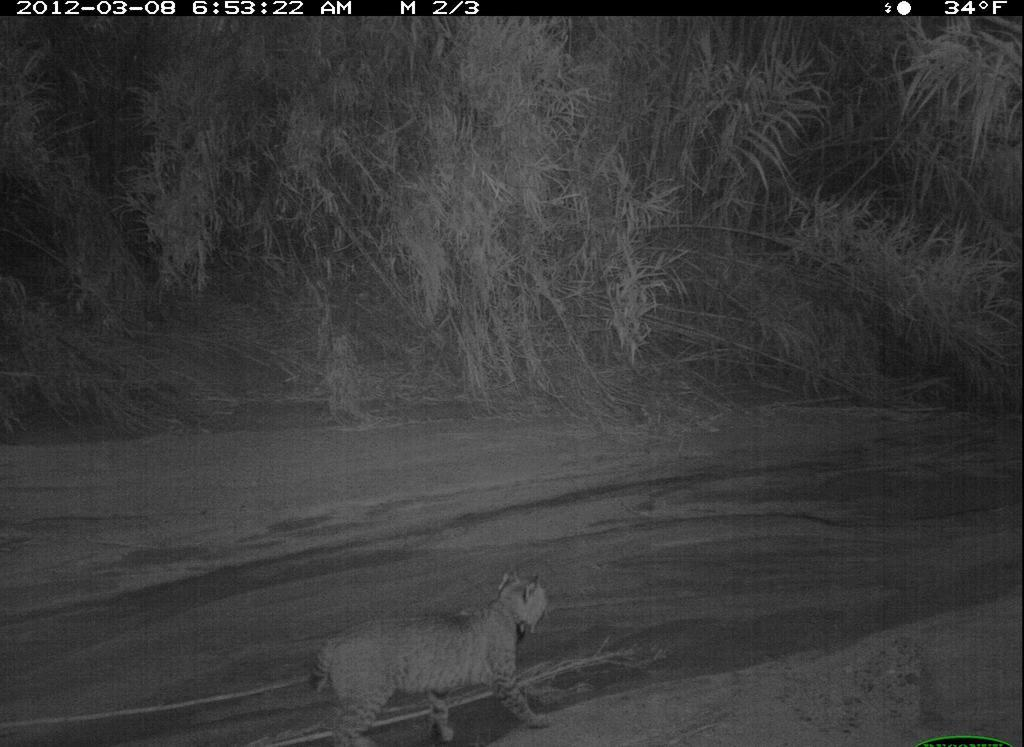bobcat: (299, 565, 577, 747)
